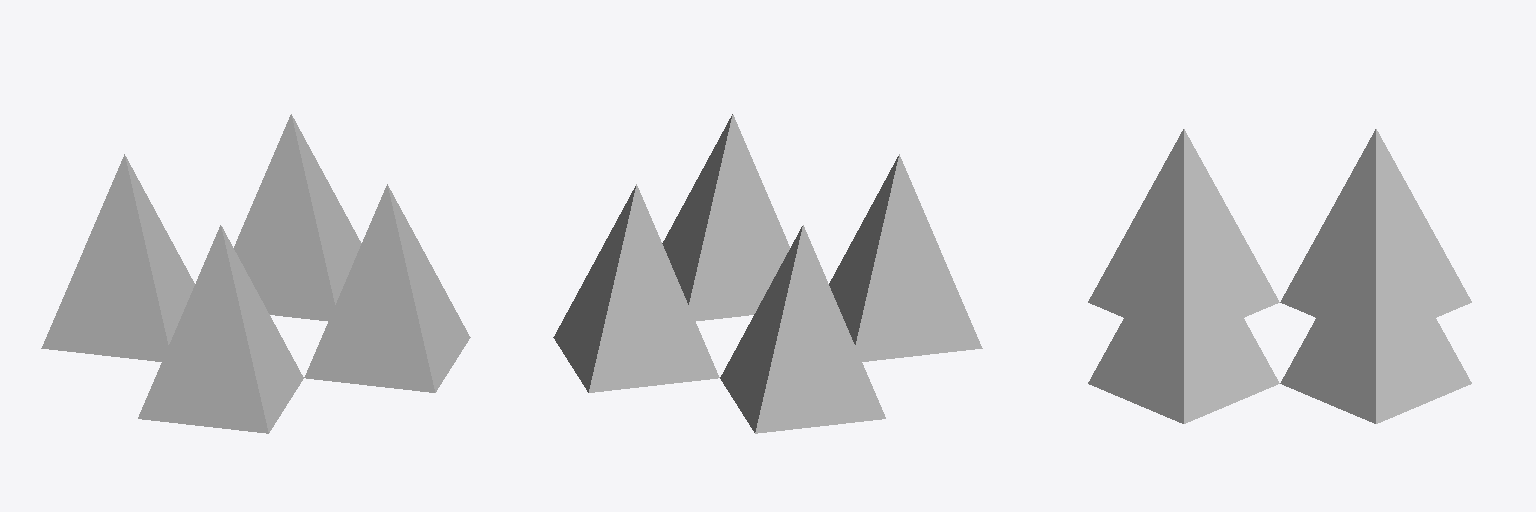
File: trap.obj
The picture shows the model from 3 angles: view 1: azimuth 30°, elevation 25°; view 2: azimuth 150°, elevation 25°; view 3: azimuth 270°, elevation 25°; orthographic projection.
Parts seen in each view (by area): view 1: Plane; view 2: Plane; view 3: Plane.
Boxes of the visible parts, x1,y1,x2,y2 form: Plane: [41, 114, 470, 433]; Plane: [553, 114, 982, 433]; Plane: [1088, 129, 1471, 423].
Size of the model in its own units: 2 by 1 by 2.